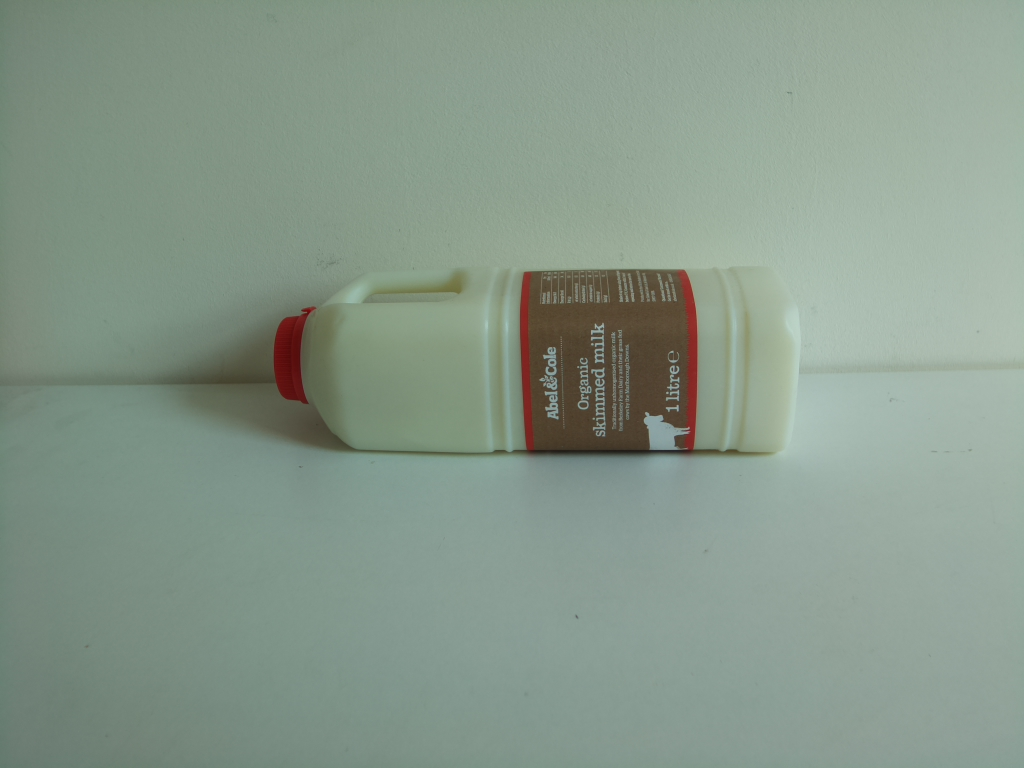milk: (263, 256, 803, 466)
